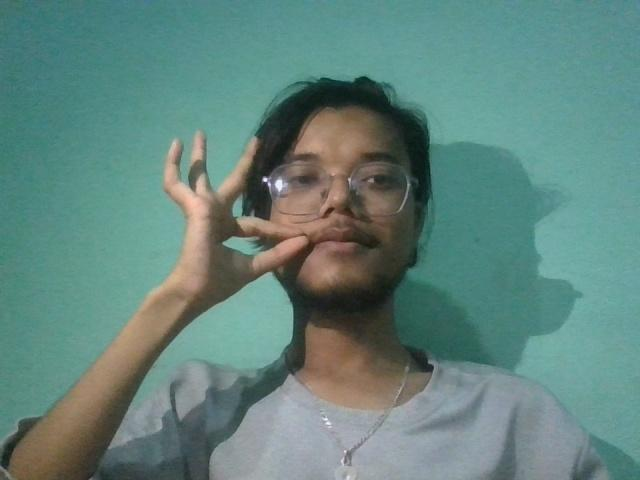Cat: (156, 121, 312, 330)
